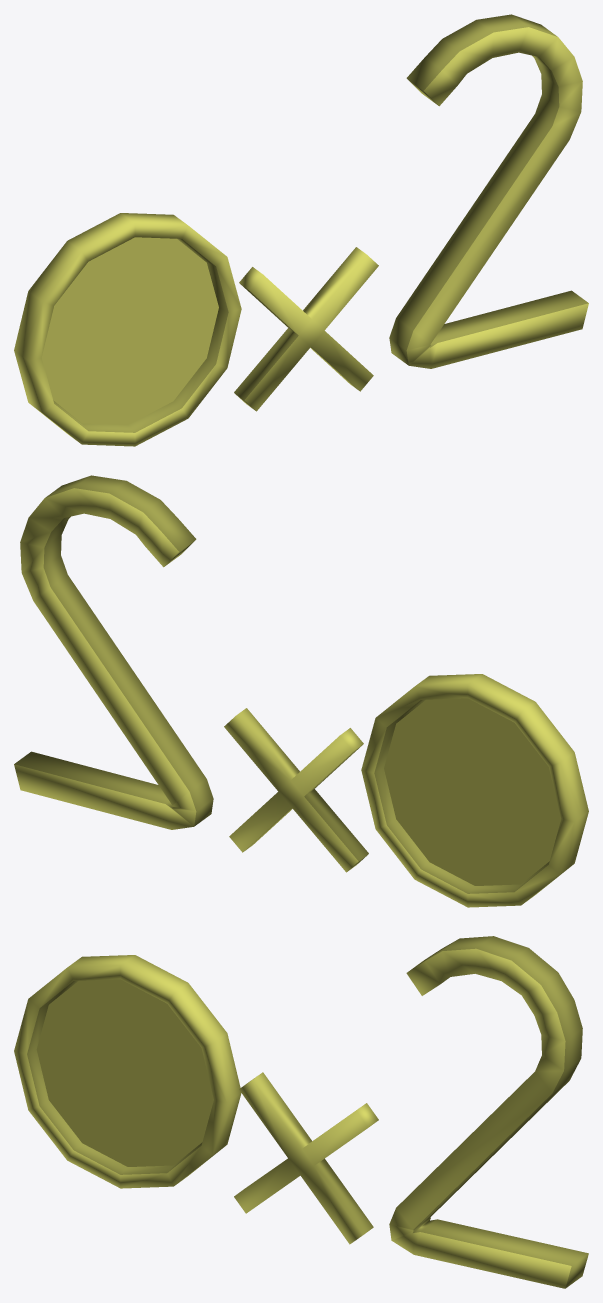
File: CoinMultiplier.fbx
The picture shows the model from 3 angles, top to bottom: view 1: azimuth 30°, elevation 25°; view 2: azimuth 150°, elevation 25°; view 3: azimuth 330°, elevation 25°; orthographic projection.
Parts seen in each view (by area): view 1: CoinMultiplier; view 2: CoinMultiplier; view 3: CoinMultiplier.
Part boxes in pixels (x1=…): CoinMultiplier: x1=14, y1=14, x2=588, y2=446; CoinMultiplier: x1=14, y1=475, x2=588, y2=907; CoinMultiplier: x1=14, y1=936, x2=588, y2=1288.
Size of the model in its own units: 267 by 151 by 14.3.
